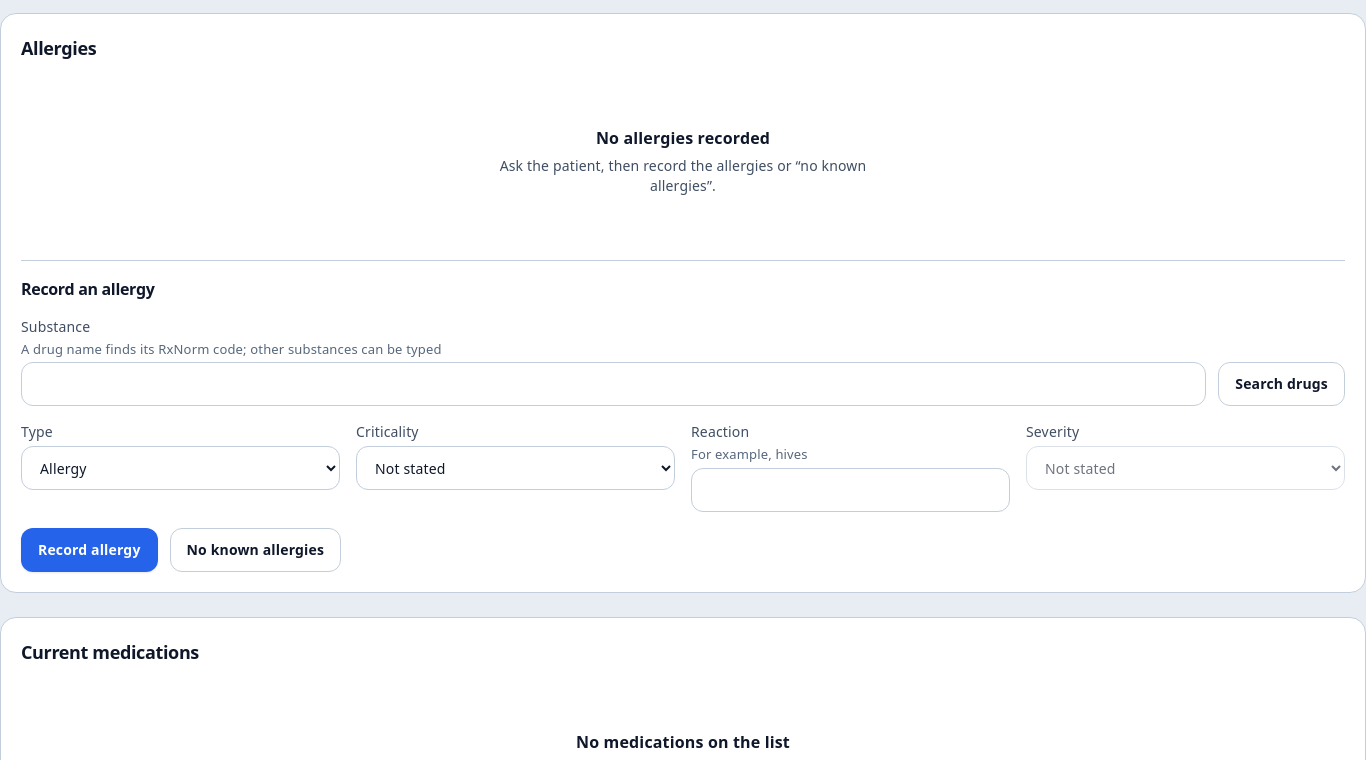
Test case: RoomingPage › records a drug allergy coded in RxNorm, tied to this visit
The width and height of the screenshot is (1366, 760).
(page scrolled)
In the field labelled "Substance": x=614, y=384 [21,362,1206,406], type "amox"
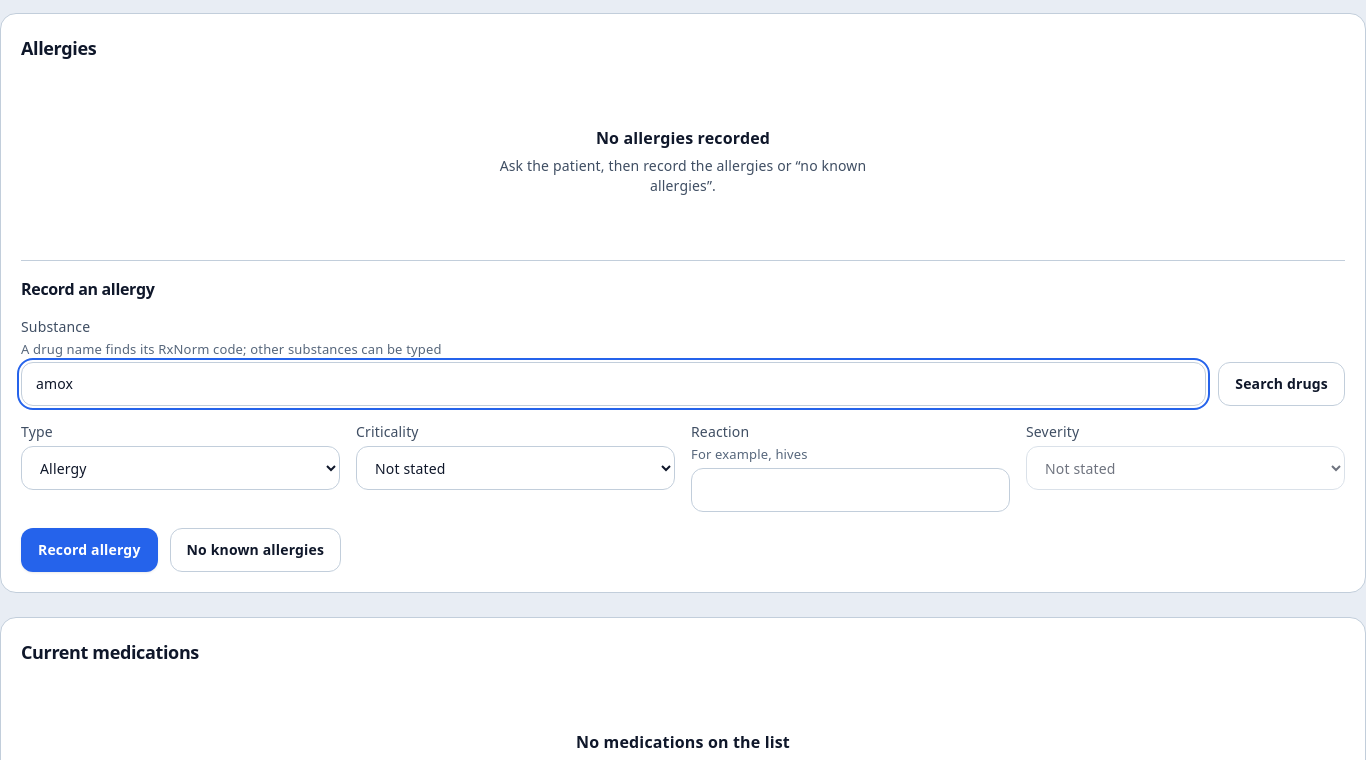
Click the button with aria-label "Search drugs for substance": x=1282, y=384 [1218,362,1345,406]
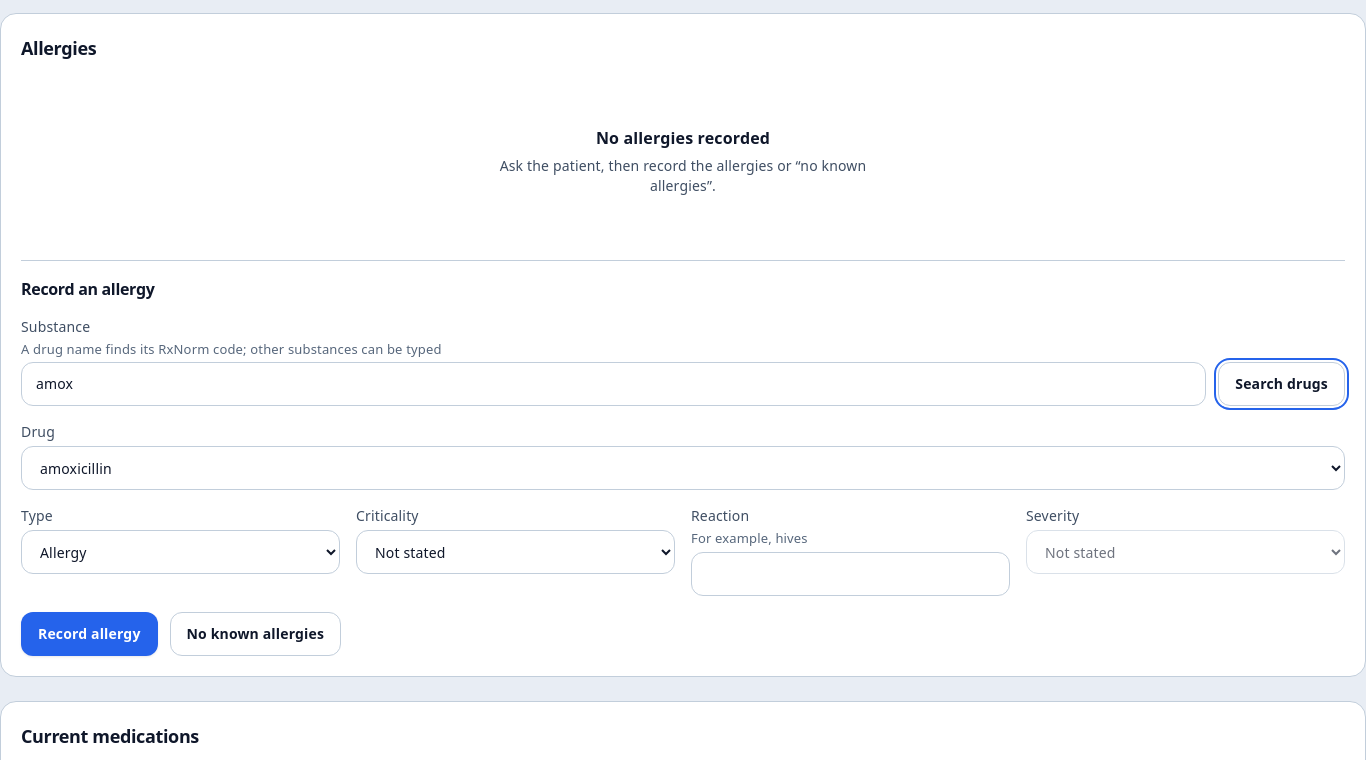
Select "High" in the dropdown labelled "Criticality": x=516, y=552 [356,530,675,574]
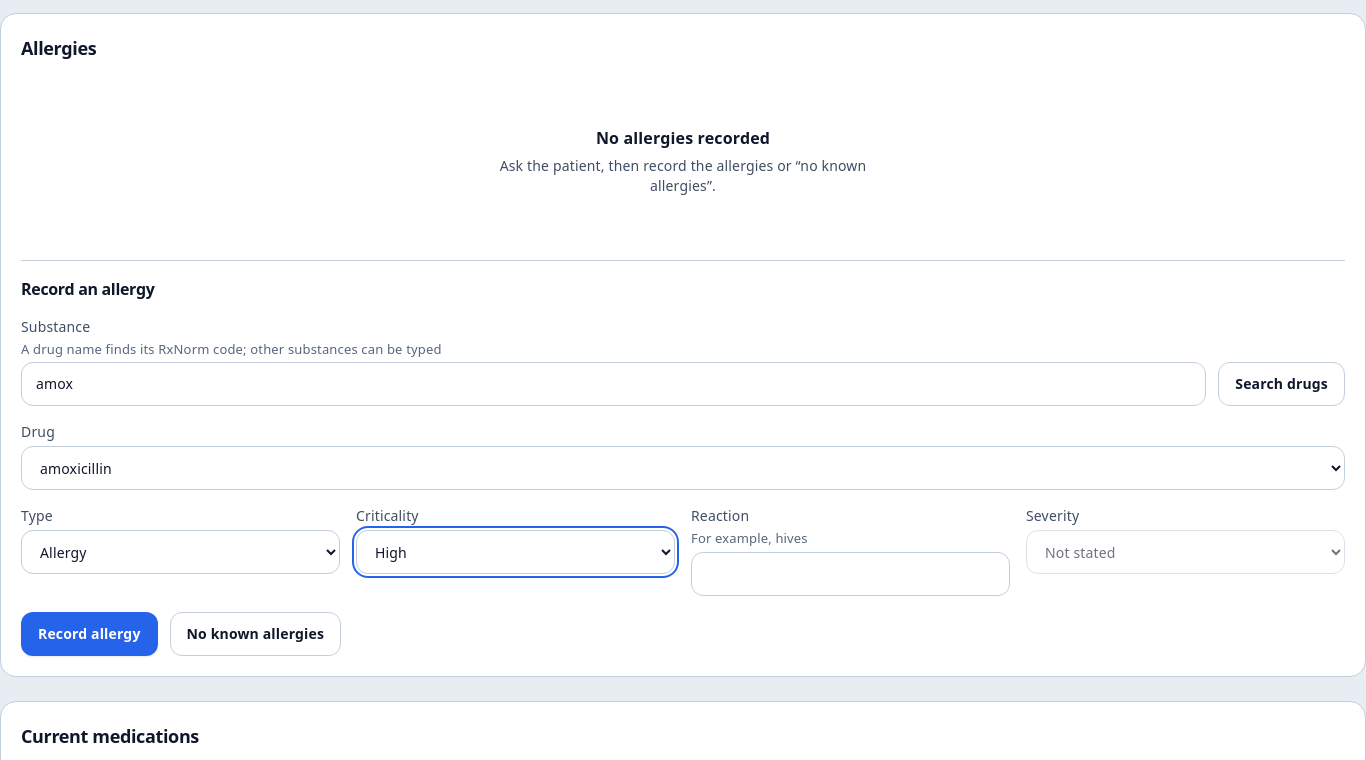
In the field labelled "Reaction": x=850, y=574 [691,552,1010,596], type "Hives"
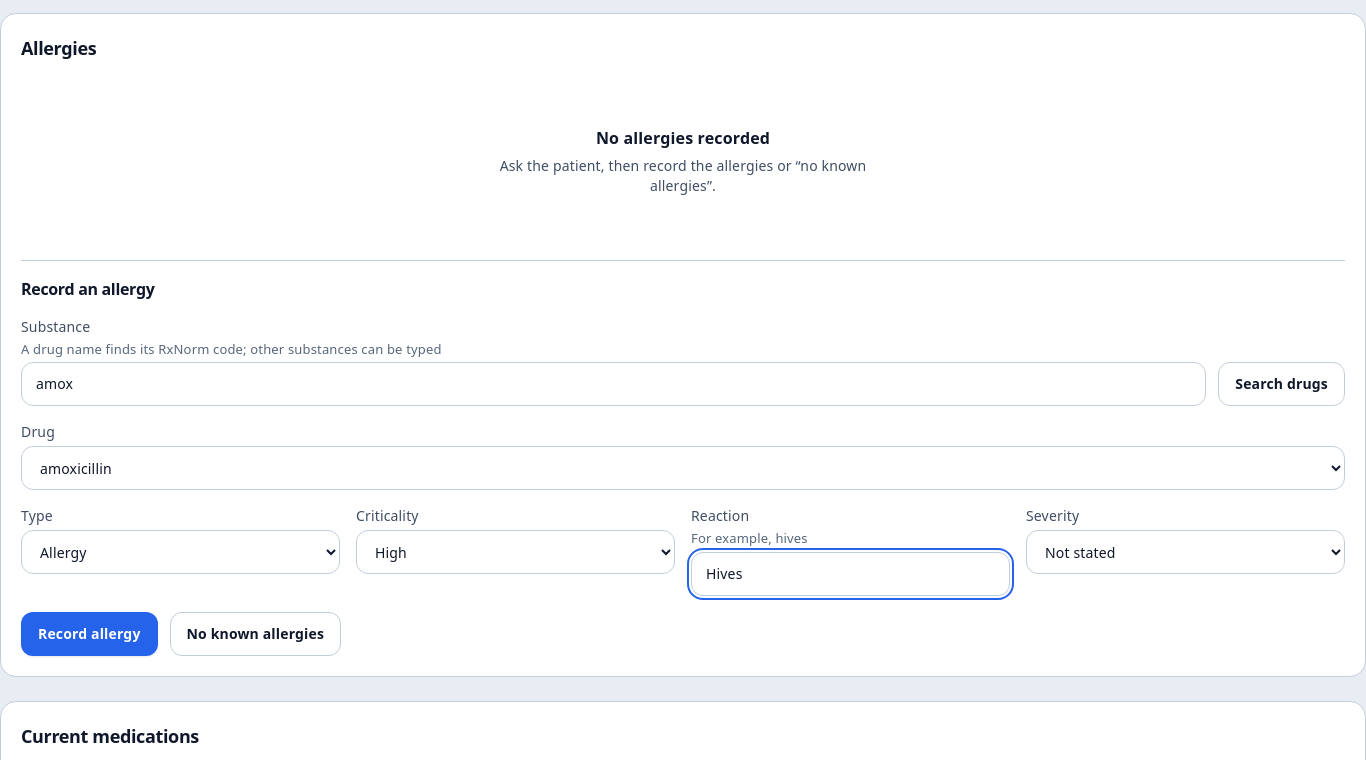
Select "Moderate" in the dropdown labelled "Severity": x=1186, y=552 [1026,530,1345,574]
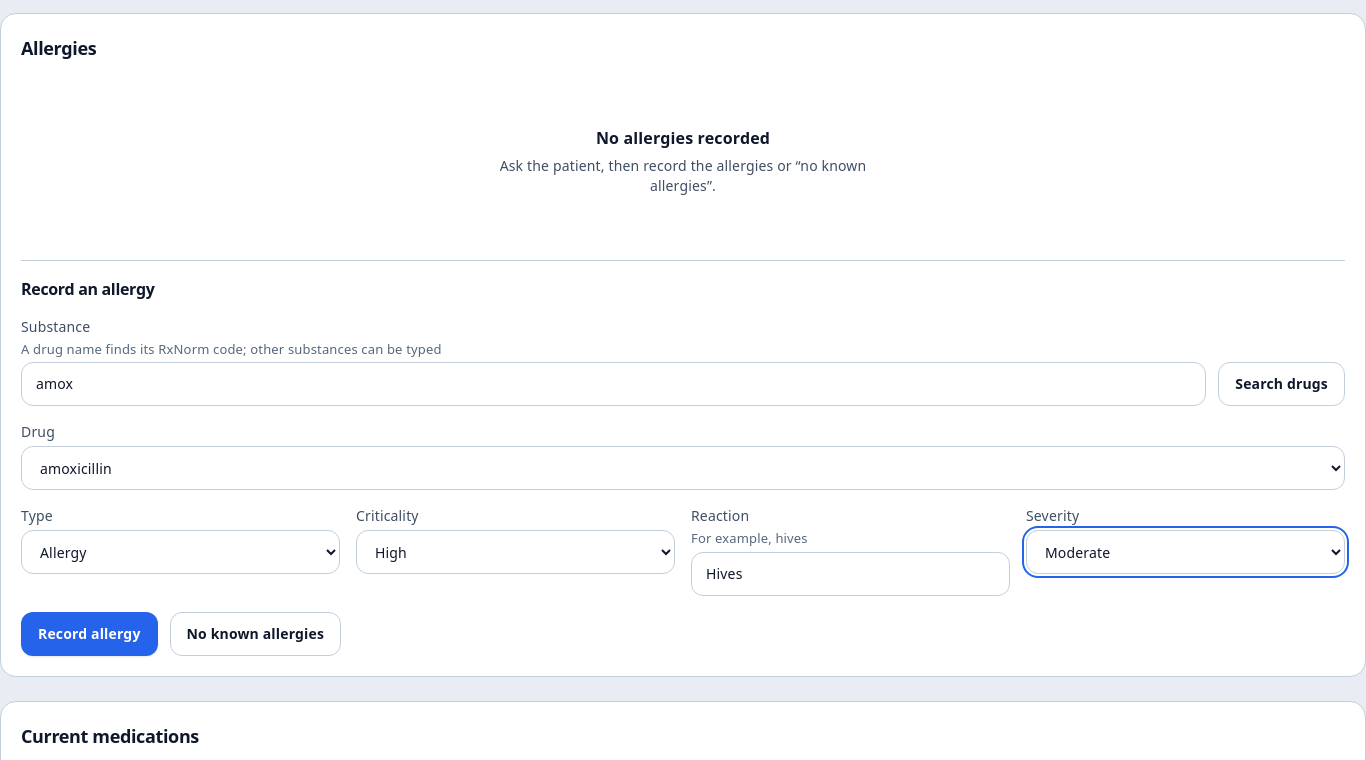
Click the button "Record allergy": x=89, y=634 [21,612,158,656]
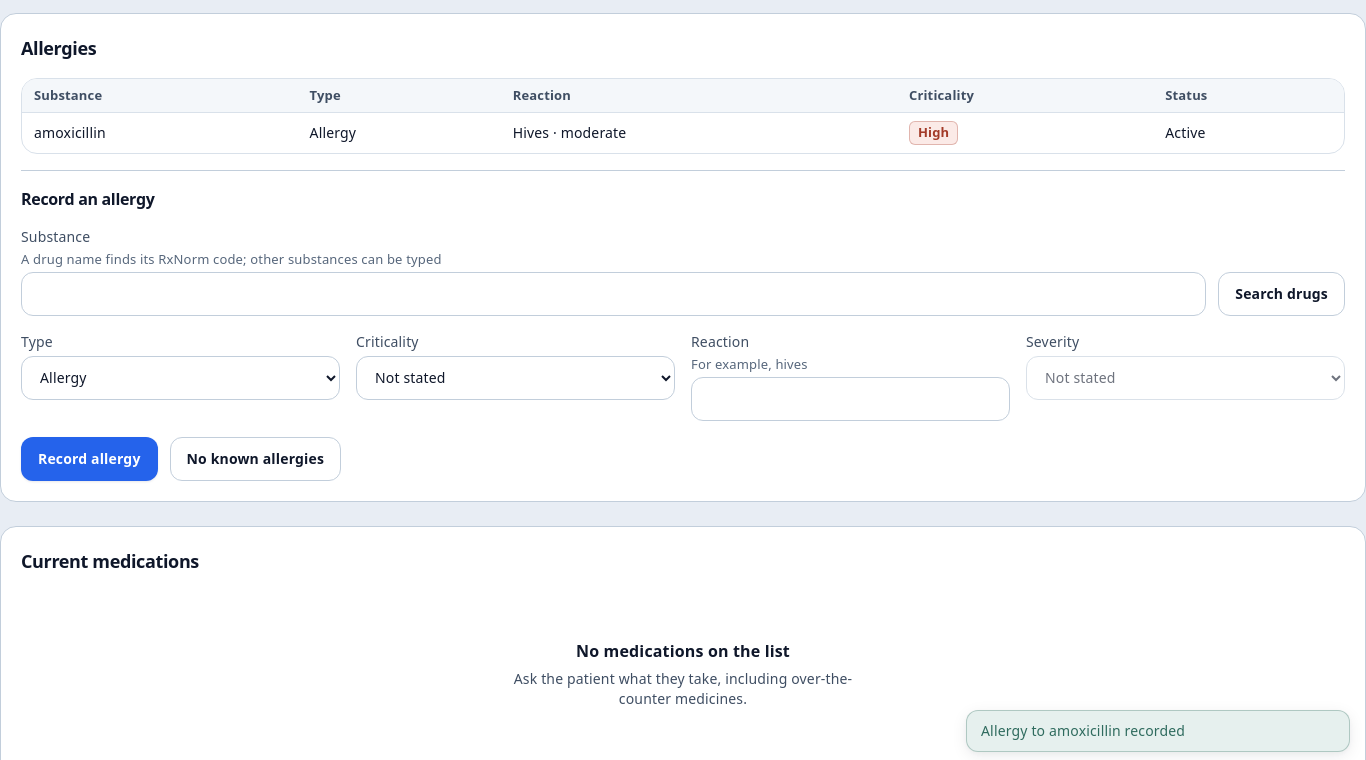
Now the text "Allergy to amoxicillin recorded" is shown, box [966,710,1350,752]
Now the text "Hives · moderate" is shown, box [501,113,897,152]
